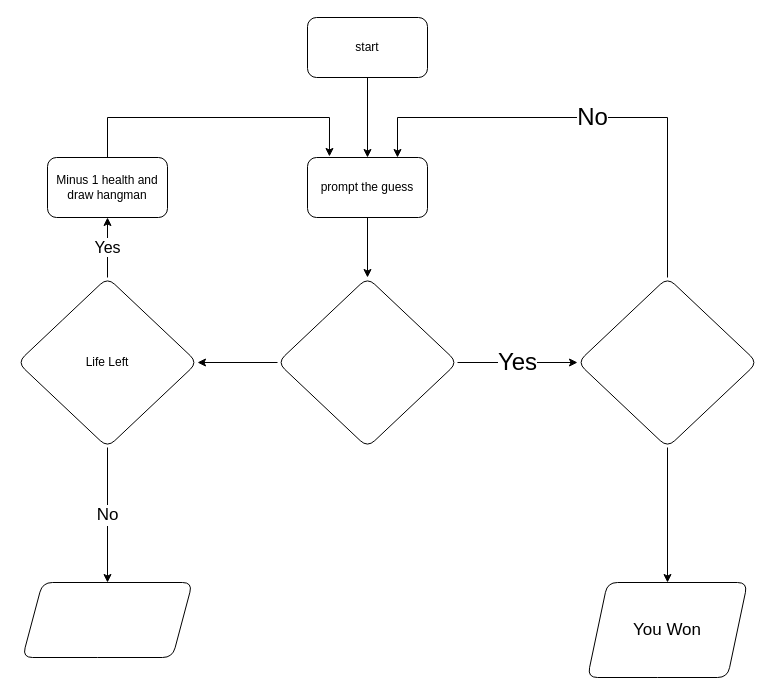
This 775x695 diagram has some shape labels left out. Each missing label, with the box of its shape:
Filled parts == Word: (576, 276, 758, 448)
guess is True: (276, 276, 458, 448)
You Loss: (22, 582, 192, 658)
